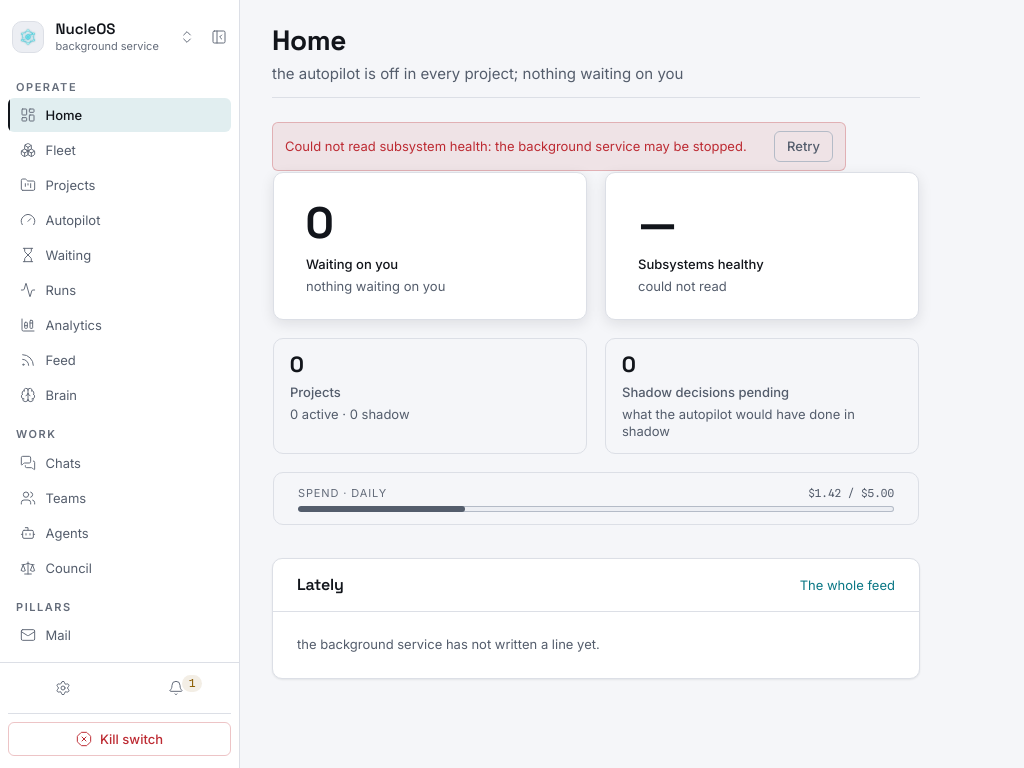
Test: NotificationsDrawer - the control in the rail › is pinned in the sidebar footer, and opens the drawer from there
This screenshot has width=1024, height=768.
Check: the element named "Notifications, 1 held by the calendar" is shown, box [0,662,239,767]
Step 1. Click the button named "Notifications, 1 held by the calendar" → click(176, 688), box [122,671,231,705]
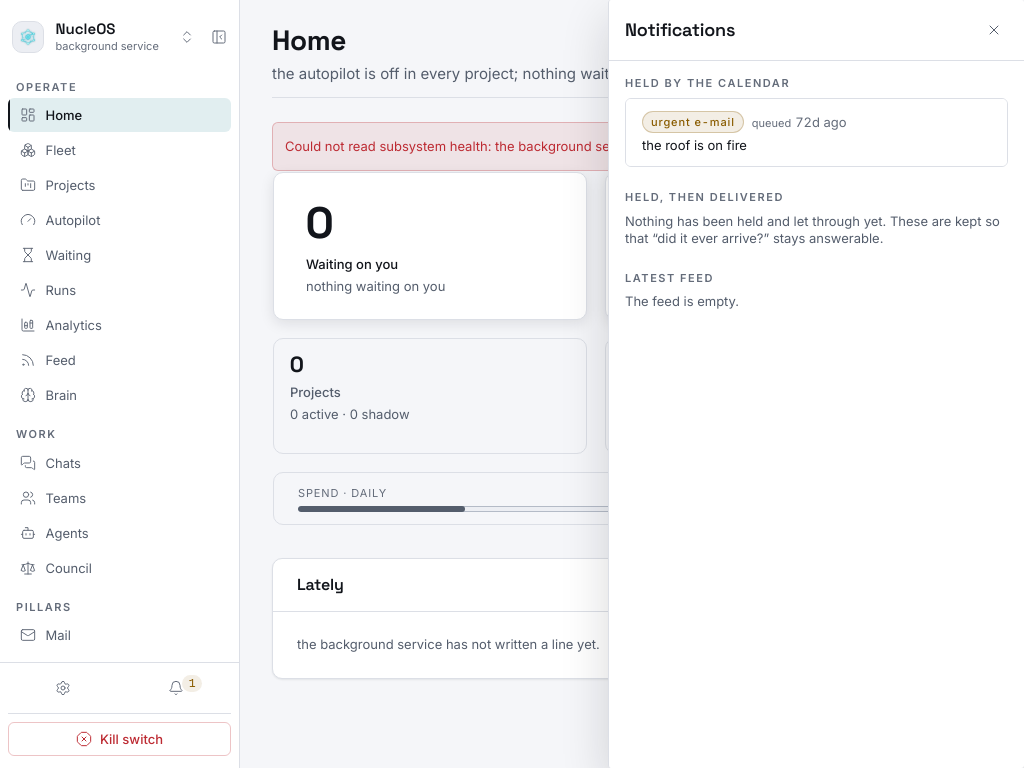
Check: the dialog "Notifications" is shown, box [608,0,1023,767]
